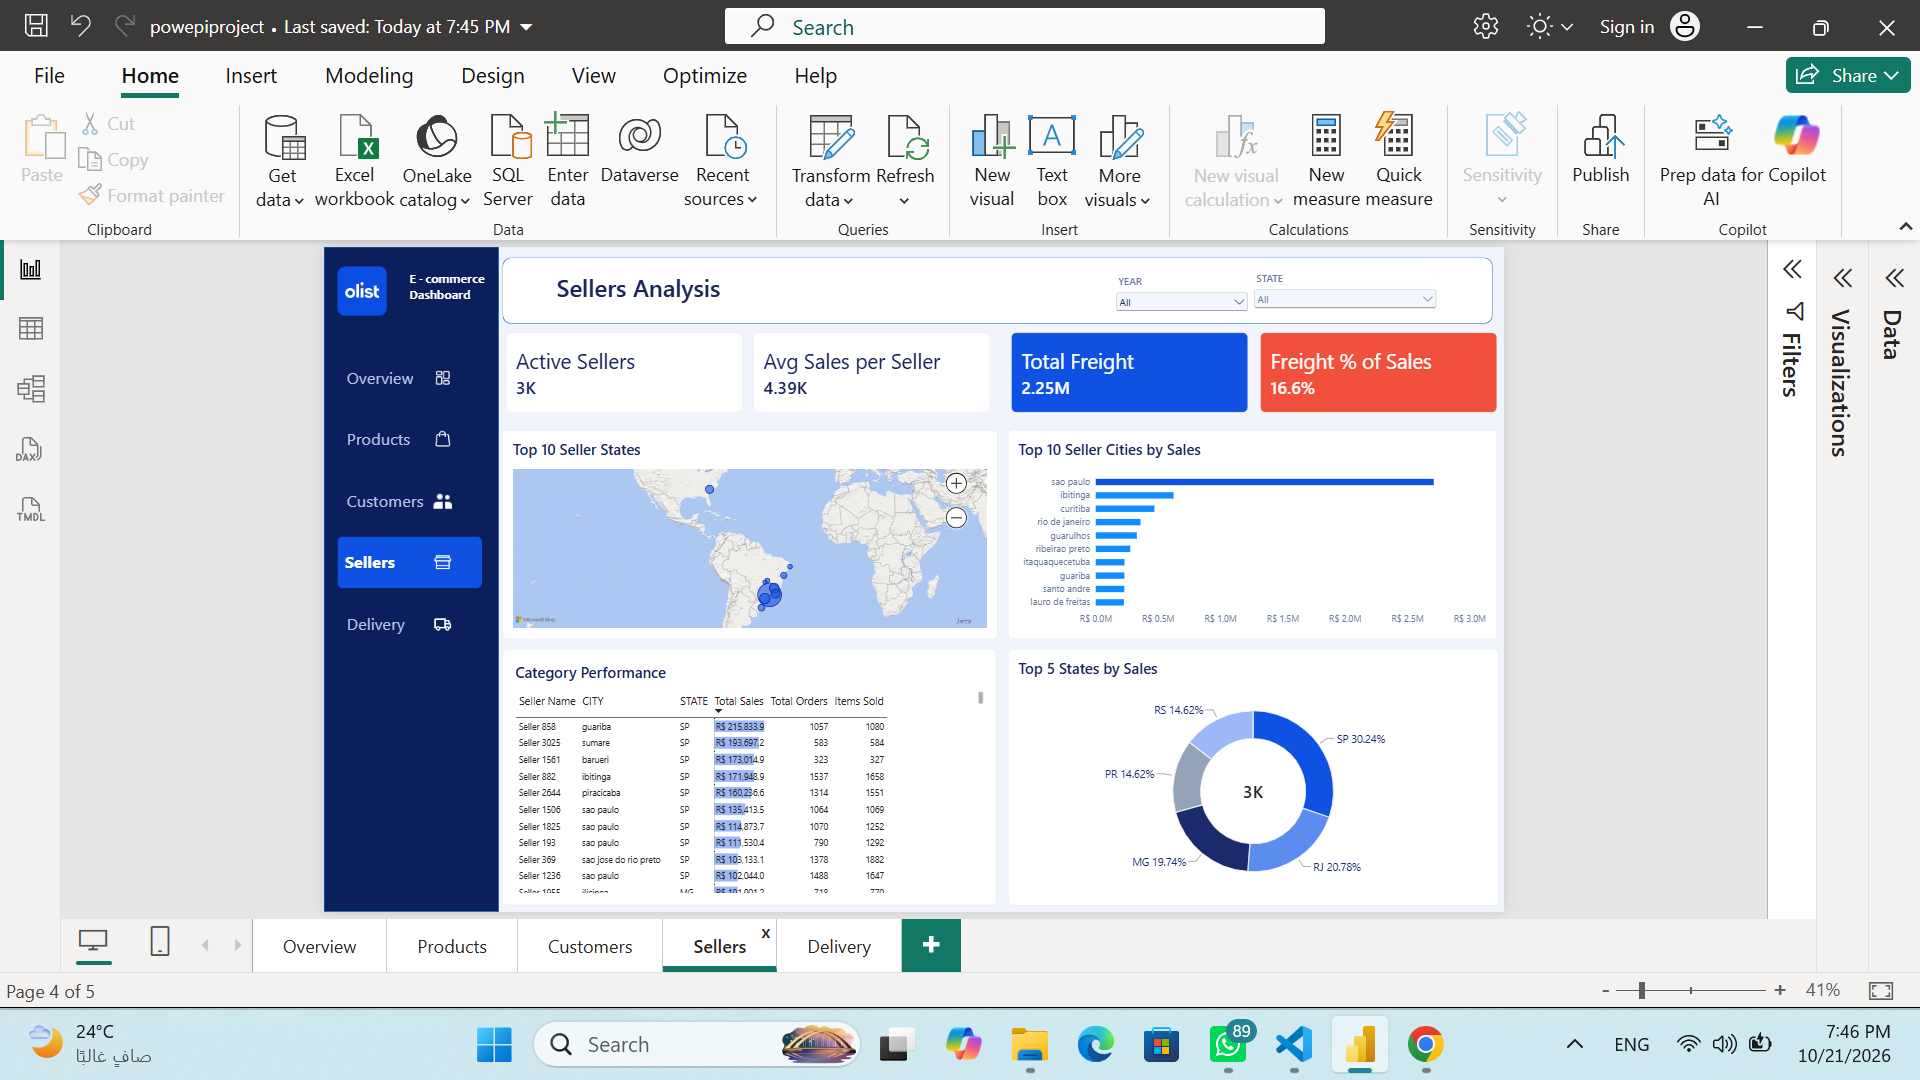

The dashboard page shown, as its layout file describes it:
{"tool":"powerbi","page":{"name":"Sellers","canvas":[1920,1080],"ordinal":3},"visuals":[{"type":"map","title":"Top 10 Seller States ","fields":{"Category":["DIM_SELLER.STATE"],"Size":["_Measures.Total Sales"]},"box":[290,297.5,805,340],"z":0},{"type":"shape","box":[0,0,284,1080.8],"z":1000},{"type":"image","box":[22.3,31.8,80,80],"z":2000},{"type":"textbox","title":"E - commerce Dashboard","box":[139.8,39.7,176.6,62],"z":3000},{"type":"cardVisual","fields":{"Data":["_Measures.Avg Sales per Seller"]},"box":[692.5,140,390,130],"z":4000},{"type":"cardVisual","fields":{"Data":["_Measures.Total Freight"]},"box":[1112.5,140,390,130],"z":5000},{"type":"cardVisual","fields":{"Data":["_Measures.Freight % of Sales"]},"box":[1517.5,140,390,130],"z":6000},{"type":"cardVisual","fields":{"Data":["_Measures.Active Sellers"]},"box":[289.1,138.9,390,130],"z":7000},{"type":"clusteredBarChart","title":"Top 10 Seller Cities by Sales","fields":{"Category":["DIM_SELLER.CITY"],"Y":["_Measures.Total Sales"]},"box":[1113.3,296.7,795,340],"z":8000},{"type":"shape","box":[289.1,17,1610.1,107.7],"z":9000},{"type":"textbox","title":"Sellers Analysis","box":[377,39.7,314.6,59.5],"z":10000},{"type":"slicer","fields":{"Values":["DIM_DATE.YEAR"]},"box":[1284,44,224,60],"z":11000},{"type":"slicer","fields":{"Values":["DIM_CUSTOMER.STATE"]},"box":[1508,40,306.1,79.4],"z":12000},{"type":"pageNavigator","box":[22.7,170,235.3,484.7],"z":13000},{"type":"image","box":[170,198,44,30],"z":14000},{"type":"image","box":[170,298,44,30],"z":15000},{"type":"image","box":[170,398,44,30],"z":16000},{"type":"image","box":[170,498,44,30],"z":17000},{"type":"image","box":[170,598,44,30],"z":18000},{"type":"donutChart","title":"Top 5 States by Sales","fields":{"Category":["DIM_CUSTOMER.STATE"],"Y":["_Measures.Active Sellers"]},"box":[1112.8,653.2,797.9,417],"z":19000},{"type":"tableEx","title":"Category Performance","fields":{"Values":["DIM_SELLER.Seller Name","DIM_SELLER.CITY","DIM_SELLER.STATE","_Measures.Total Sales","_Measures.Total Orders","_Measures.Items Sold"]},"box":[290,653.3,803.3,416.7],"z":20000}]}

Visuals, with their boxes on the page's 1920x1080 design canvas (x1, y1, x2, y2). These are canvas units, not pixel positions in the 1920x1080 screenshot, which may show the page scaled, cropped or inside an application window:
"Top 10 Seller States " map: x1=290 y1=298 x2=1095 y2=638
shape: x1=0 y1=0 x2=284 y2=1081
image: x1=22 y1=32 x2=102 y2=112
"E - commerce Dashboard" textbox: x1=140 y1=40 x2=316 y2=102
cardVisual - _Measures.Avg Sales per Seller: x1=692 y1=140 x2=1082 y2=270
cardVisual - _Measures.Total Freight: x1=1112 y1=140 x2=1502 y2=270
cardVisual - _Measures.Freight % of Sales: x1=1518 y1=140 x2=1908 y2=270
cardVisual - _Measures.Active Sellers: x1=289 y1=139 x2=679 y2=269
"Top 10 Seller Cities by Sales" clusteredBarChart: x1=1113 y1=297 x2=1908 y2=637
shape: x1=289 y1=17 x2=1899 y2=125
"Sellers Analysis" textbox: x1=377 y1=40 x2=692 y2=99
slicer - DIM_DATE.YEAR: x1=1284 y1=44 x2=1508 y2=104
slicer - DIM_CUSTOMER.STATE: x1=1508 y1=40 x2=1814 y2=119
pageNavigator: x1=23 y1=170 x2=258 y2=655
image: x1=170 y1=198 x2=214 y2=228
image: x1=170 y1=298 x2=214 y2=328
image: x1=170 y1=398 x2=214 y2=428
image: x1=170 y1=498 x2=214 y2=528
image: x1=170 y1=598 x2=214 y2=628
"Top 5 States by Sales" donutChart: x1=1113 y1=653 x2=1911 y2=1070
"Category Performance" tableEx: x1=290 y1=653 x2=1093 y2=1070
